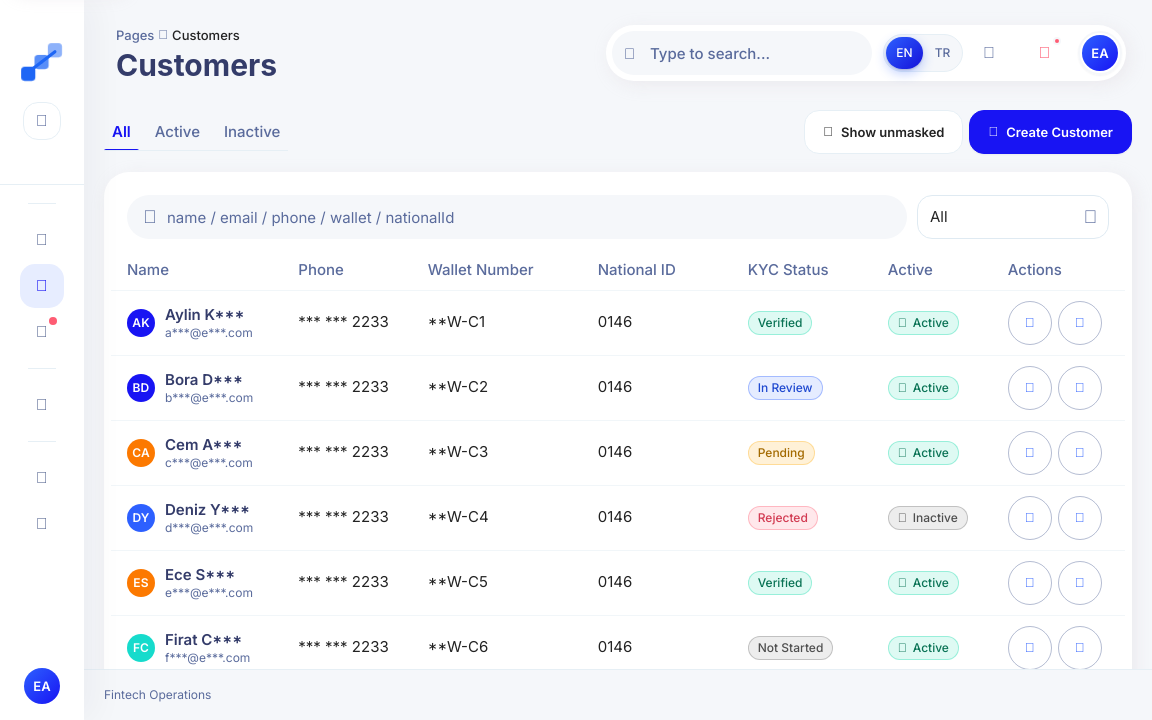
Enterprise customer flows › keeps free-text search out of the URL and removes revealed PII when masking again
The width and height of the screenshot is (1152, 720).
Step 1. Click the button "Show unmasked" → (884, 132), box [804,110,963,154]
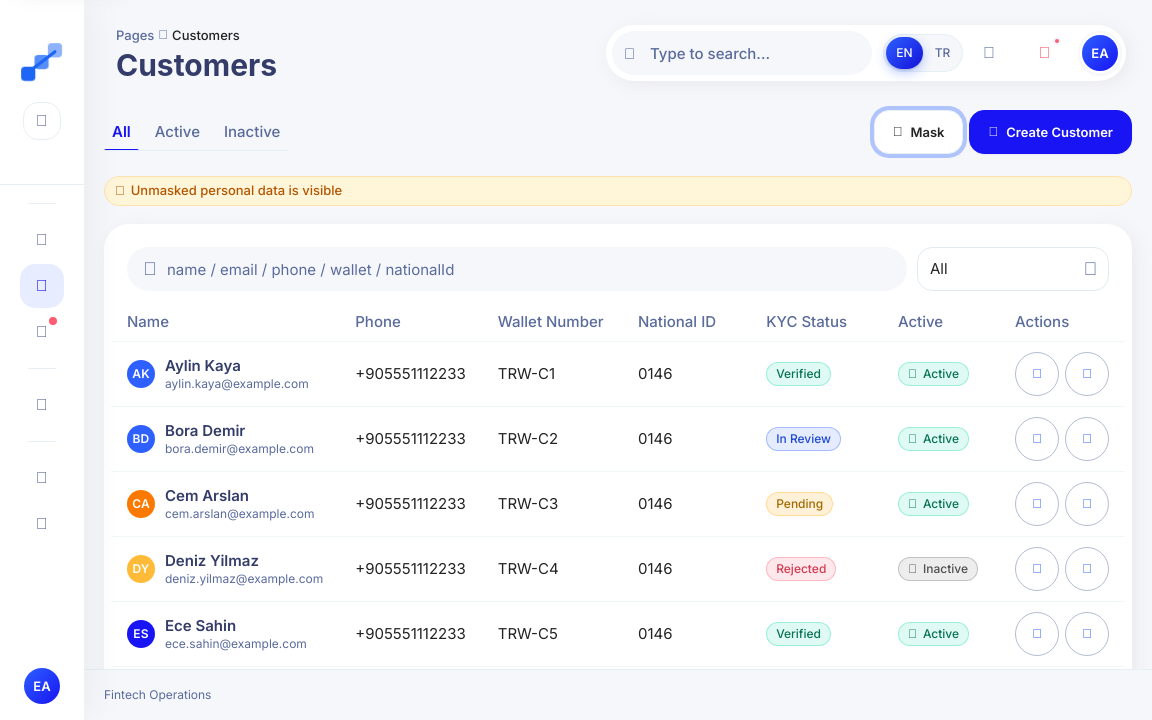
Result: the element with test id "customers-table" shows "Aylin Kaya" at [111,303,1125,719]
Step 2. Type "Bora" into the field with placeholder "name / email / phone / wallet / nationalId" → (517, 269), box [127,247,907,291]
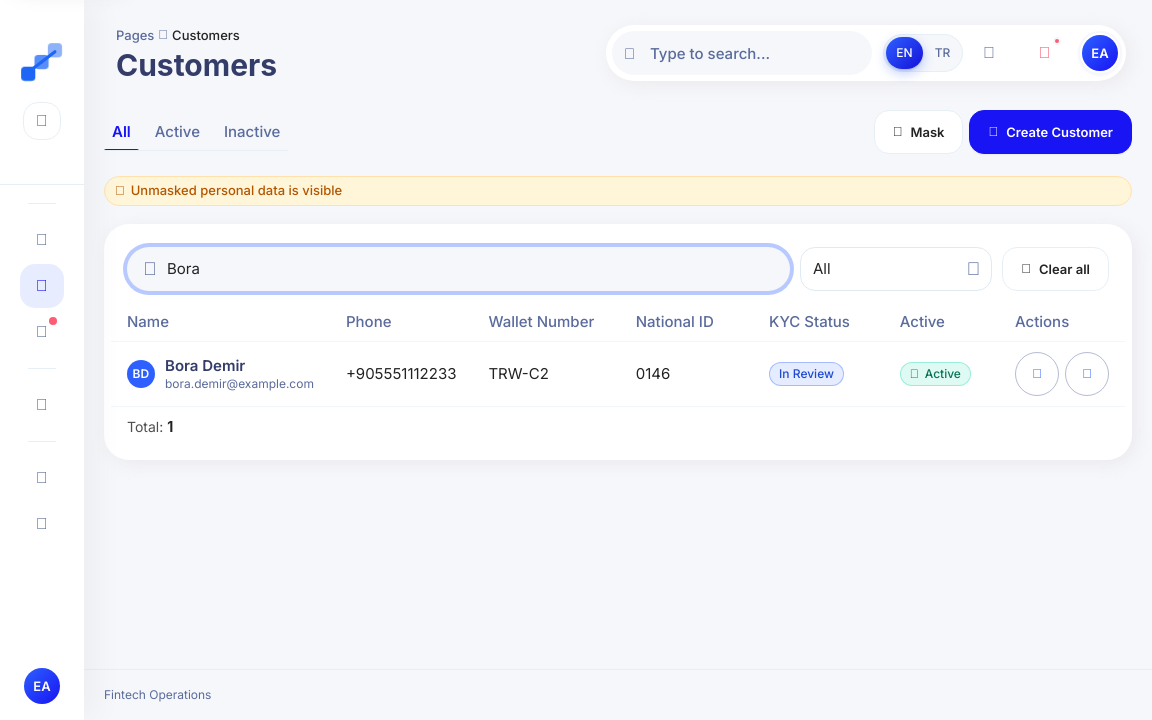
Step 3. Clear the 2nd field → (459, 269), box [127,247,790,291]
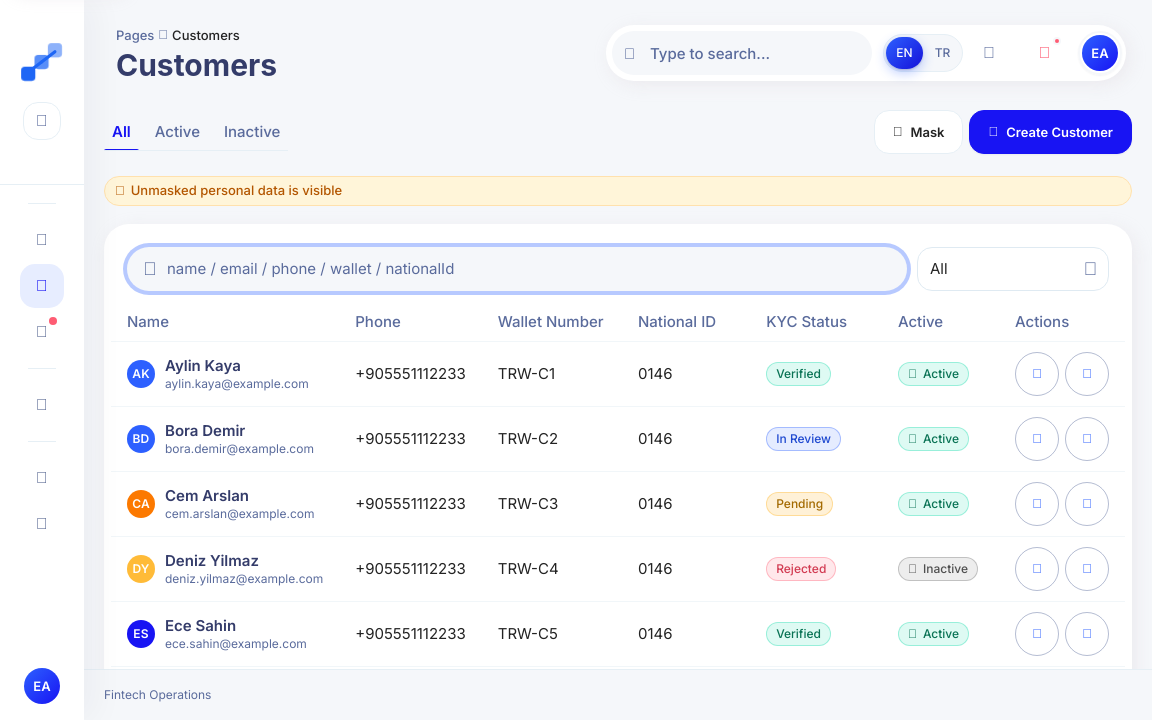
Step 4. Click the button "Mask" → (919, 132), box [874,110,964,154]
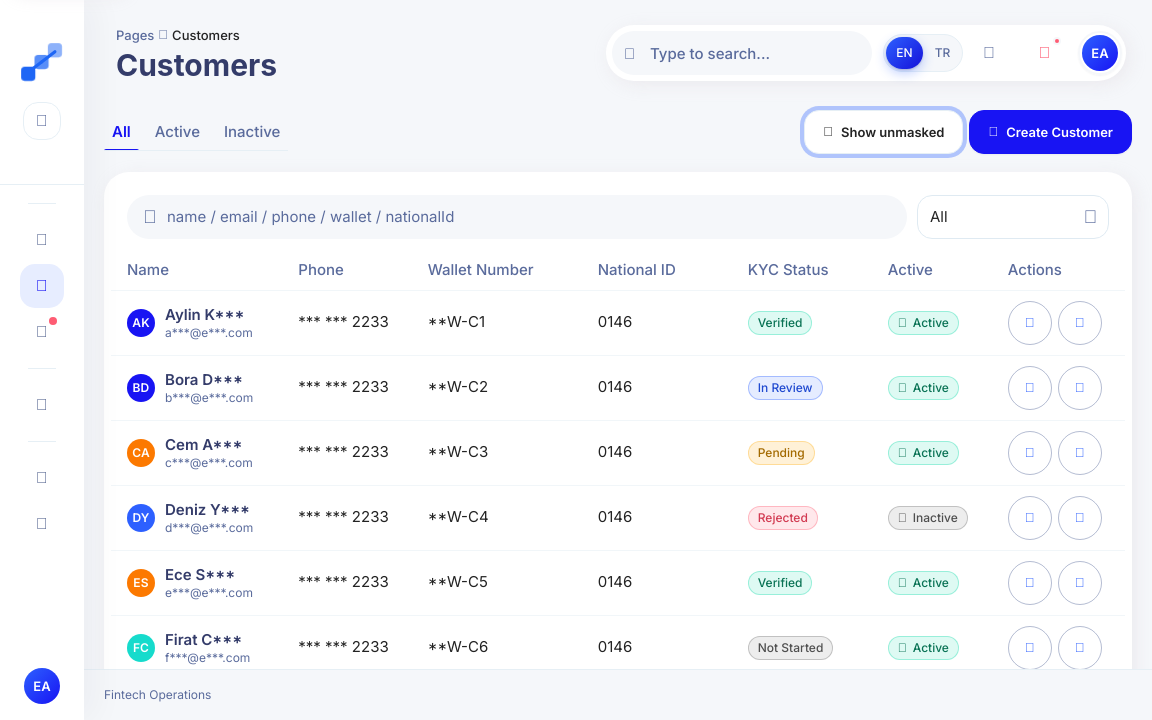
Result: the text with test id "customers-table" no longer shows "Aylin Kaya"
Result: the element with test id "customers-table" shows "Aylin K***" at [111,251,1125,719]
